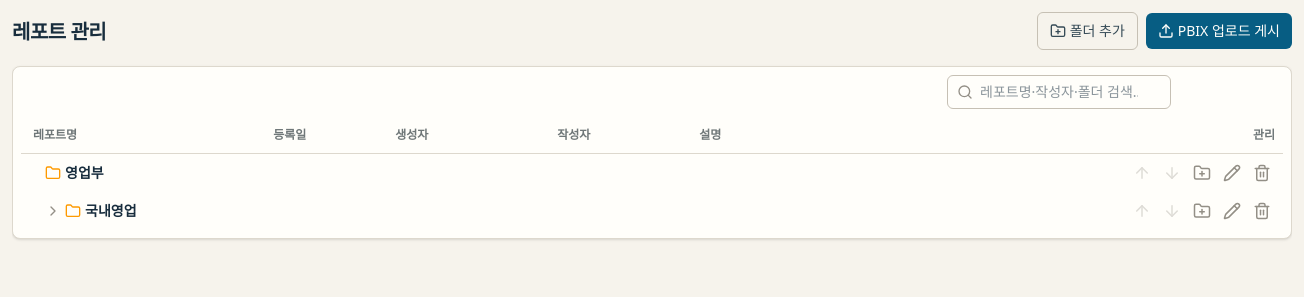
ReportsPage › 폴더 구조는 최하위까지 보이고 레포트만 접힌 상태로 시작한다
The image size is (1304, 297).
Check: the text "영업부" is shown, box 65,163 -> 104,182
Check: the text "국내영업" is shown, box 85,201 -> 136,220
Click the button named "국내영업 레포트 펼치기" at (53, 211), box 45,203 -> 61,219
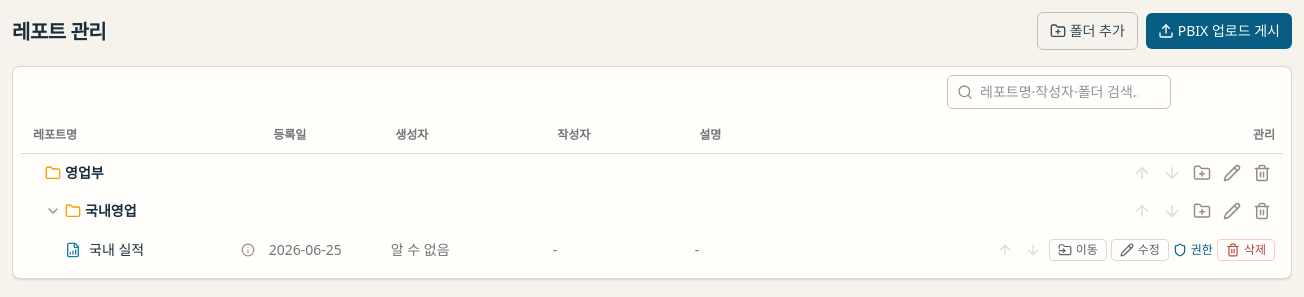
Check: the text "국내 실적" is shown, box 89,240 -> 144,259
Click the button named "국내영업 레포트 접기" at (53, 211), box 45,203 -> 61,219
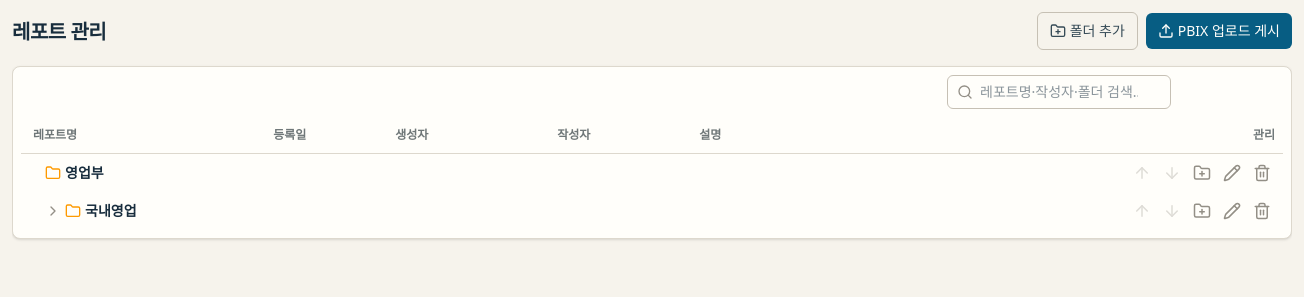
Check: the text "국내 실적" is gone
